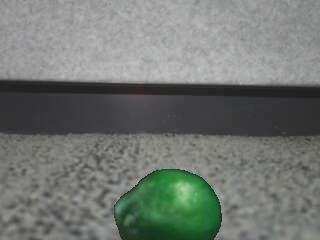Lime: (112, 168, 223, 240)
